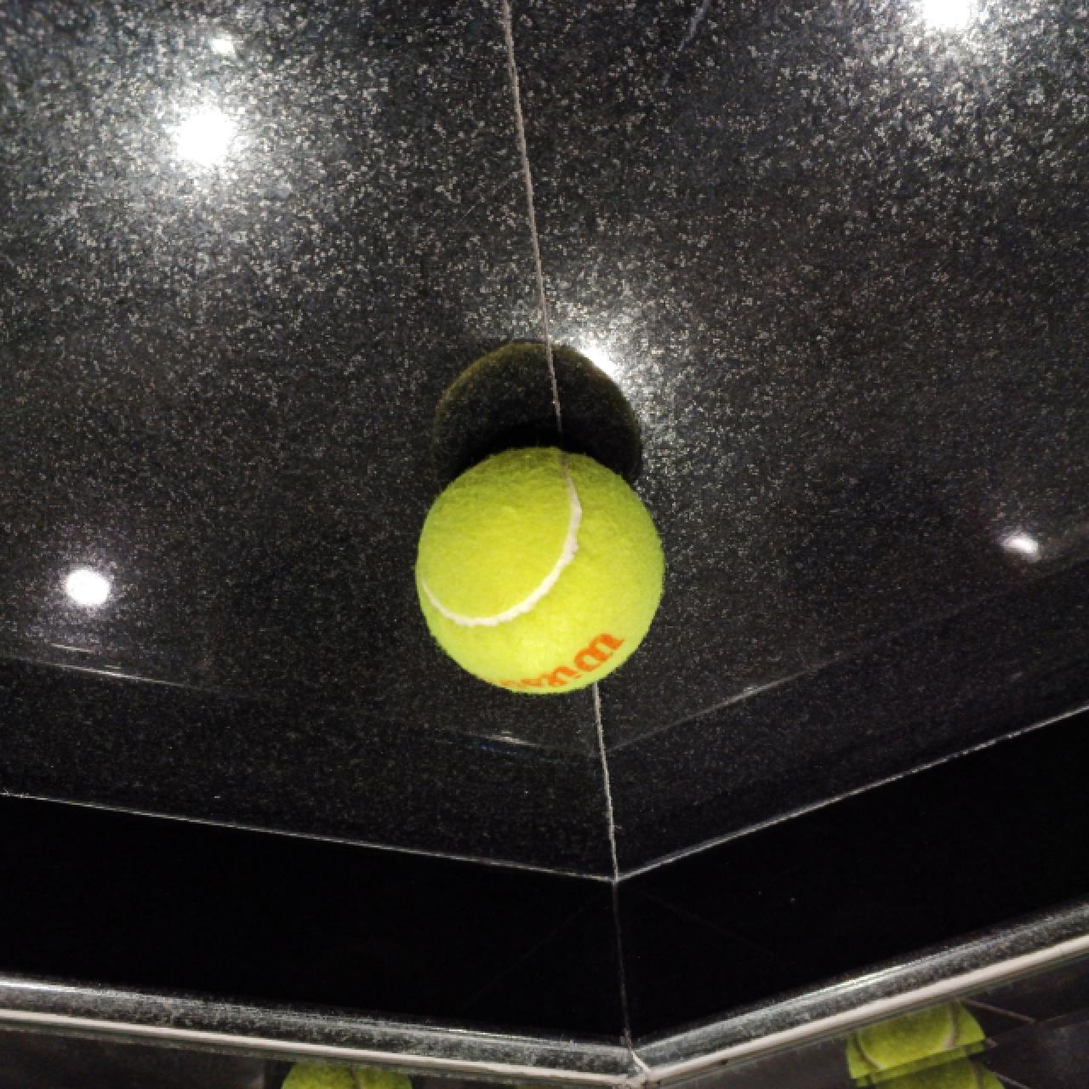tennis-ball: (413, 444, 670, 696)
